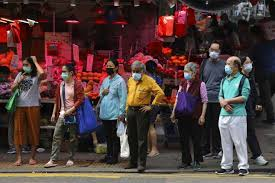mask: (224, 54, 241, 74), (237, 51, 252, 72), (130, 61, 144, 80), (182, 62, 196, 79), (209, 40, 220, 59), (104, 58, 116, 74), (60, 62, 71, 79), (22, 56, 33, 72)
